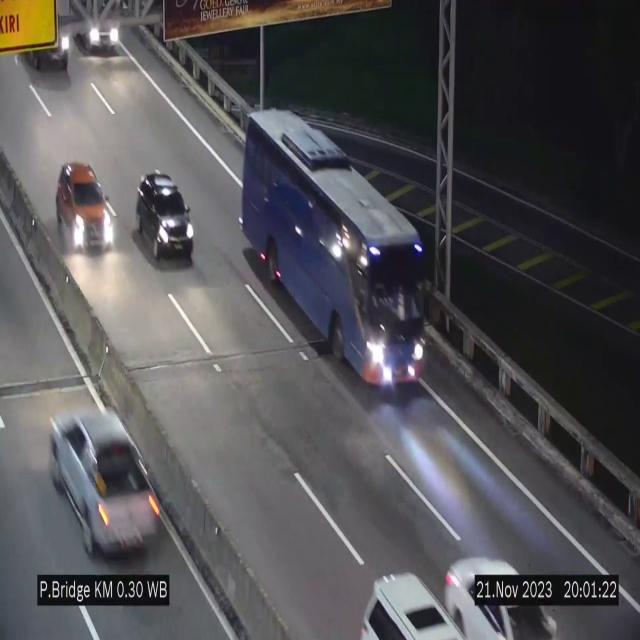Bus: (243, 106, 431, 391)
Car: (46, 386, 166, 572), (442, 542, 568, 640), (341, 570, 466, 640), (53, 159, 117, 261), (136, 172, 194, 262)
